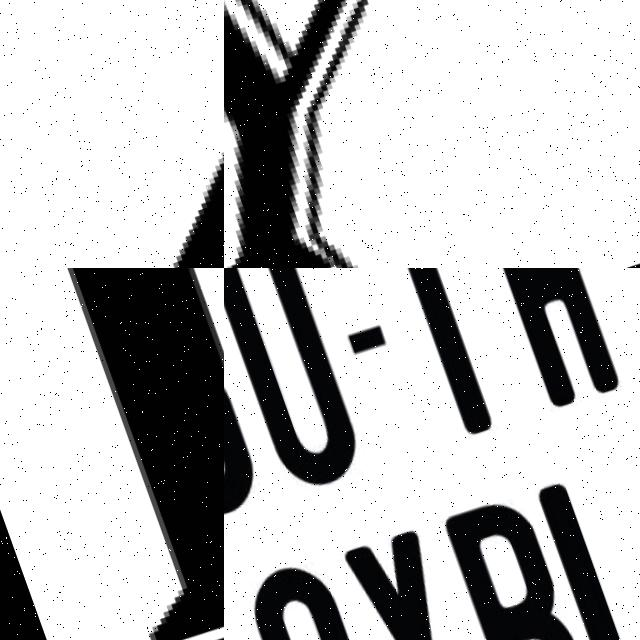6: (224, 268, 272, 534)
8: (237, 547, 403, 640)
B: (440, 482, 610, 640)
D: (0, 268, 224, 640)
H: (468, 268, 622, 410)
L: (532, 451, 640, 640)
T: (356, 268, 519, 447)
U: (224, 268, 375, 497)
X: (343, 523, 503, 640)
Y: (224, 0, 640, 268)
